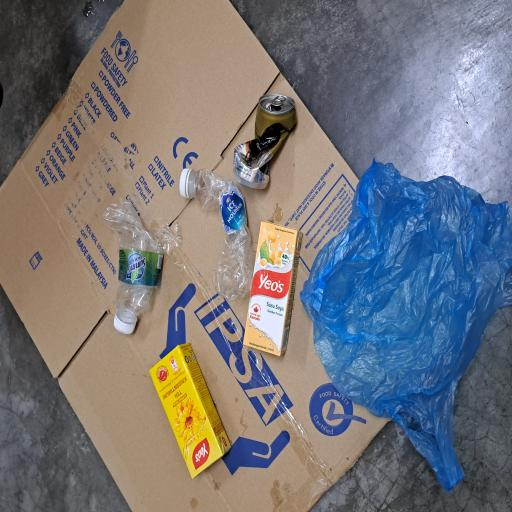can: (242, 310, 314, 397)
cardboard: (0, 0, 384, 512)
drink carton: (25, 199, 127, 309), (117, 324, 219, 404)
plastic bag: (14, 399, 266, 512)
plastic bottle: (158, 254, 258, 339), (148, 137, 235, 219)
plastic bottle cap: (134, 152, 148, 184), (236, 240, 258, 256)
pop tab: (304, 362, 313, 382)
